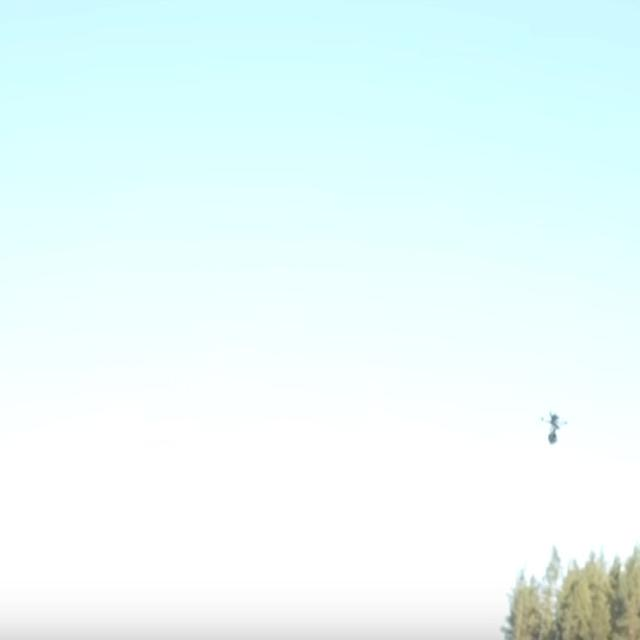drone: (537, 406, 571, 447)
